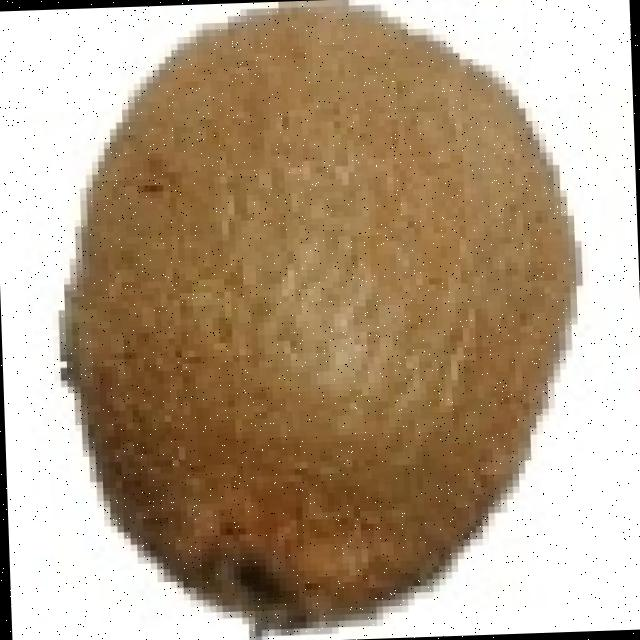kiwi: (76, 4, 587, 615)
